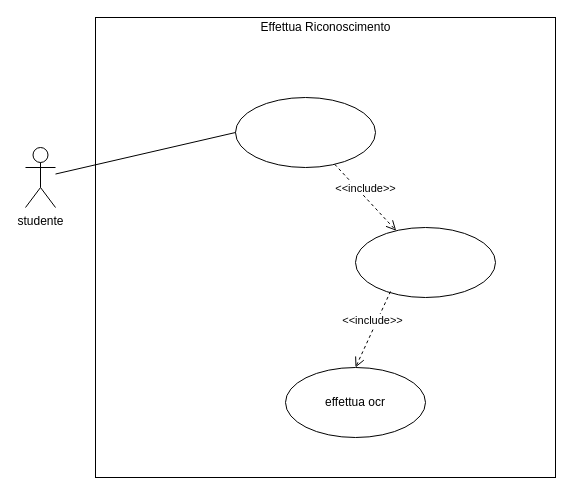
Some shapes in this 573 by 495 pixel diagram are drawn without their labels. Each missing label, with the centre of its shape:
riconosci frame: (425,262)
riconoscimento: (305,132)
